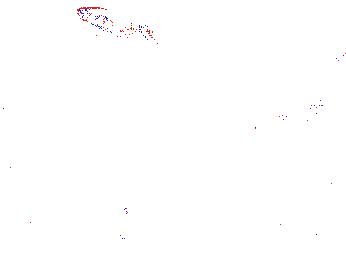glassfish: (227, 97, 330, 160)
redtail glassfish: (75, 5, 160, 44)
siberian prawn: (54, 223, 140, 259)
